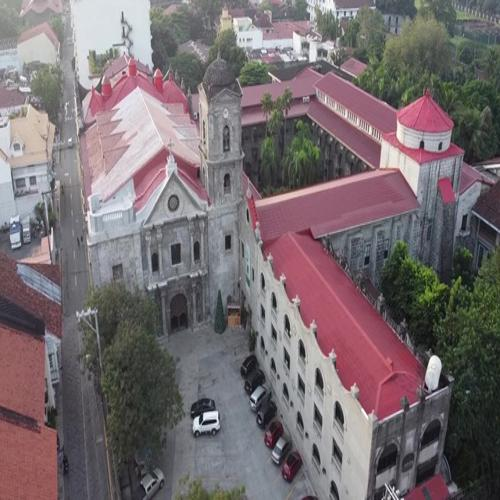San Agustin Church: (117, 34, 246, 350)
